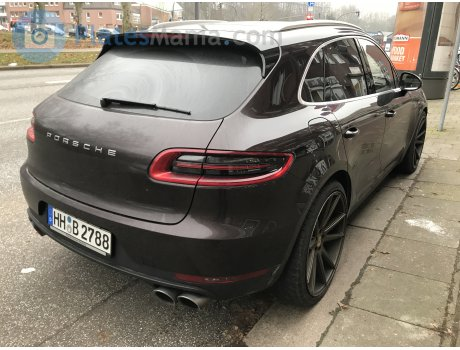License Plates: (47, 210, 112, 251)
